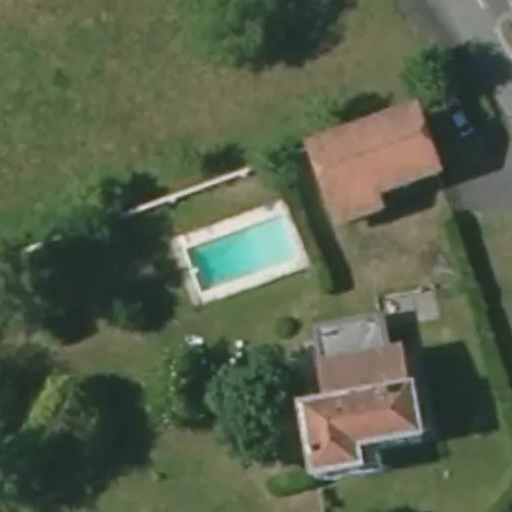pool: (209, 231, 303, 253)
